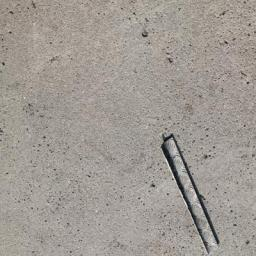FOD: (160, 134, 224, 256)
